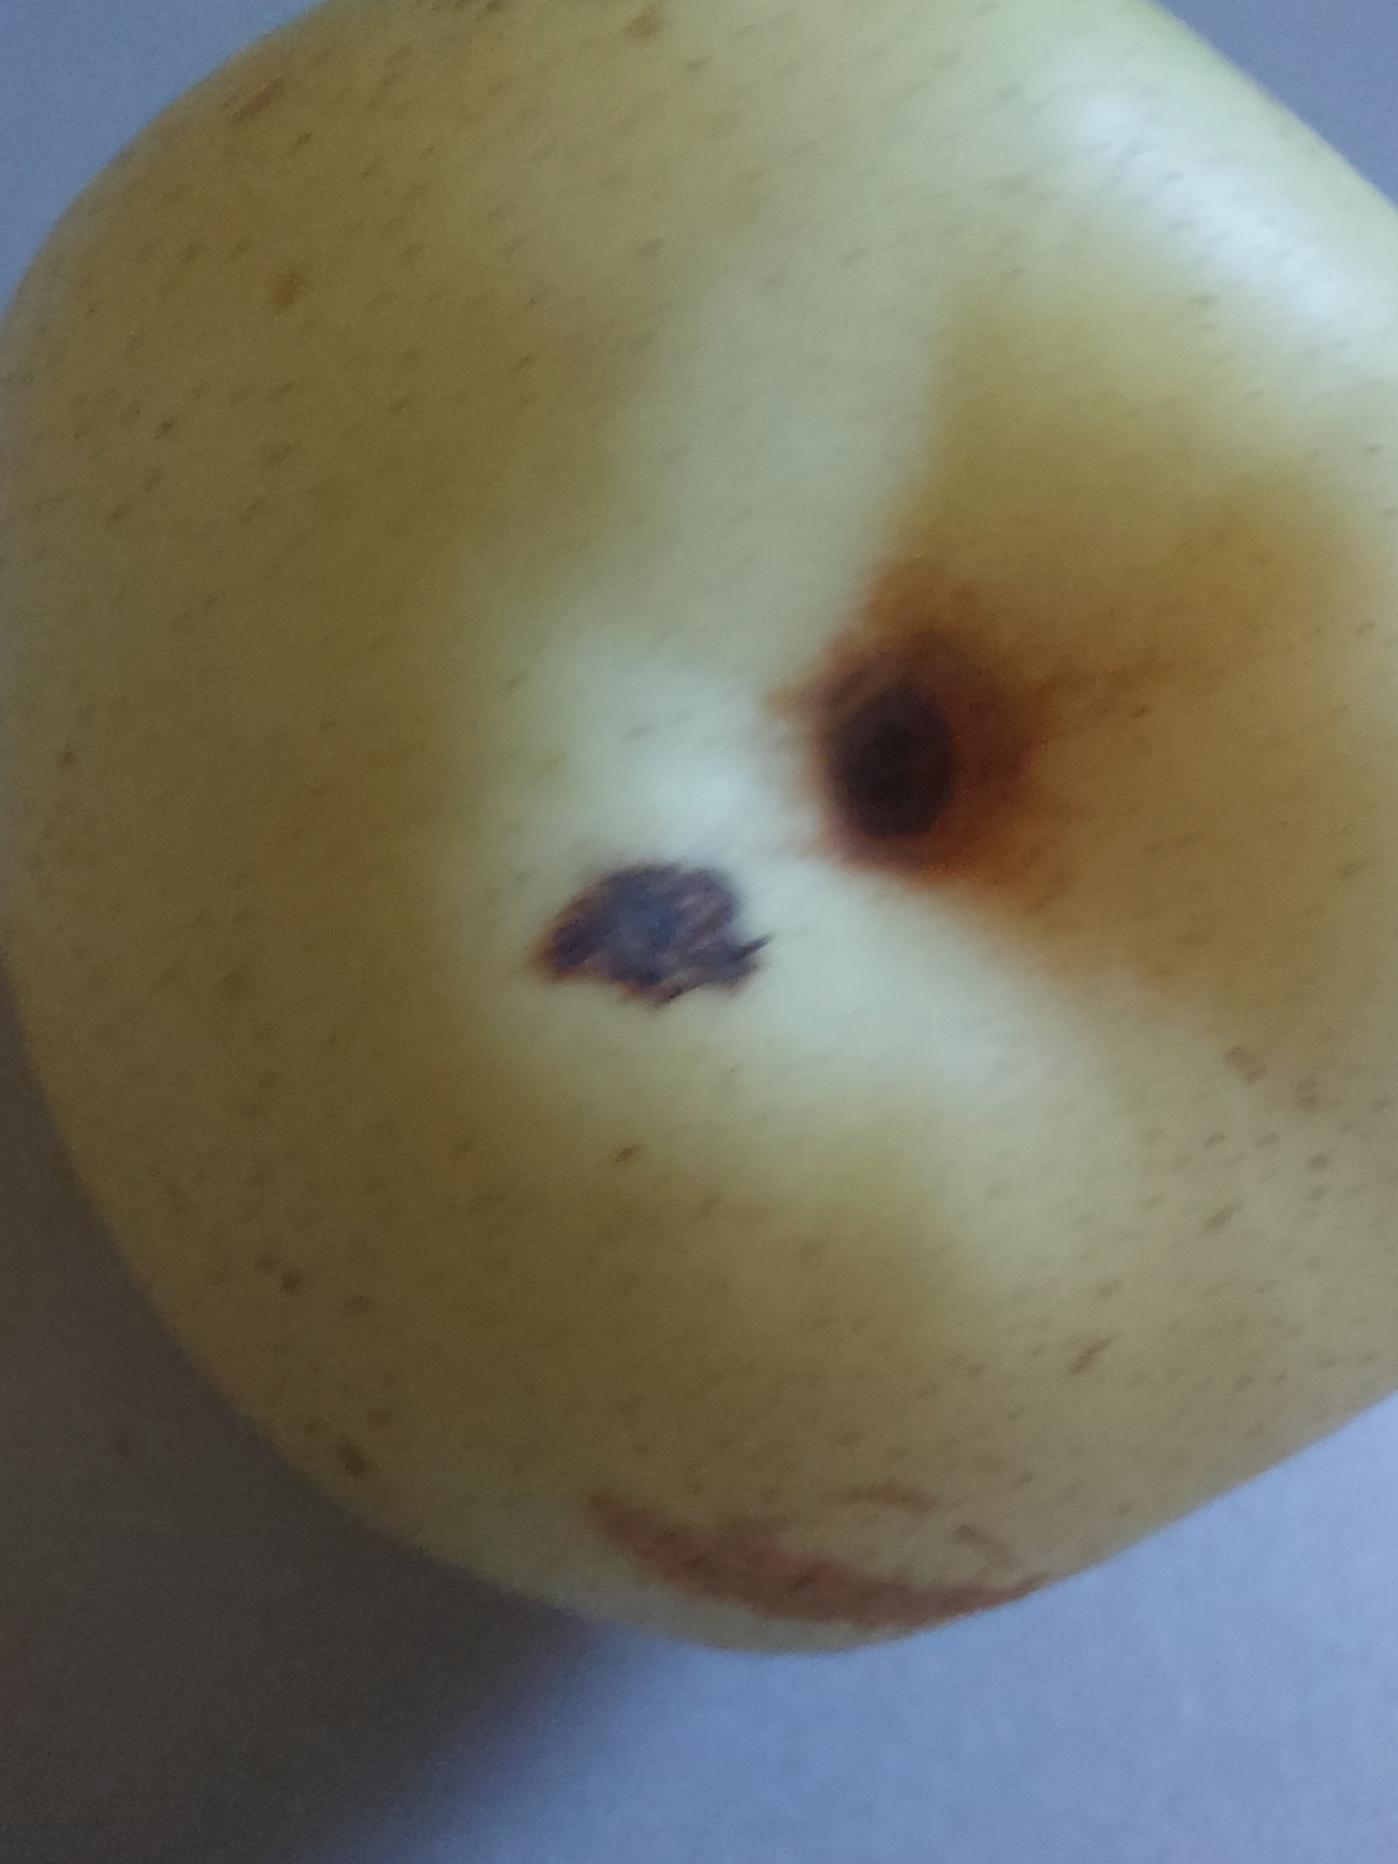Good Pear: (0, 0, 1398, 1695)
